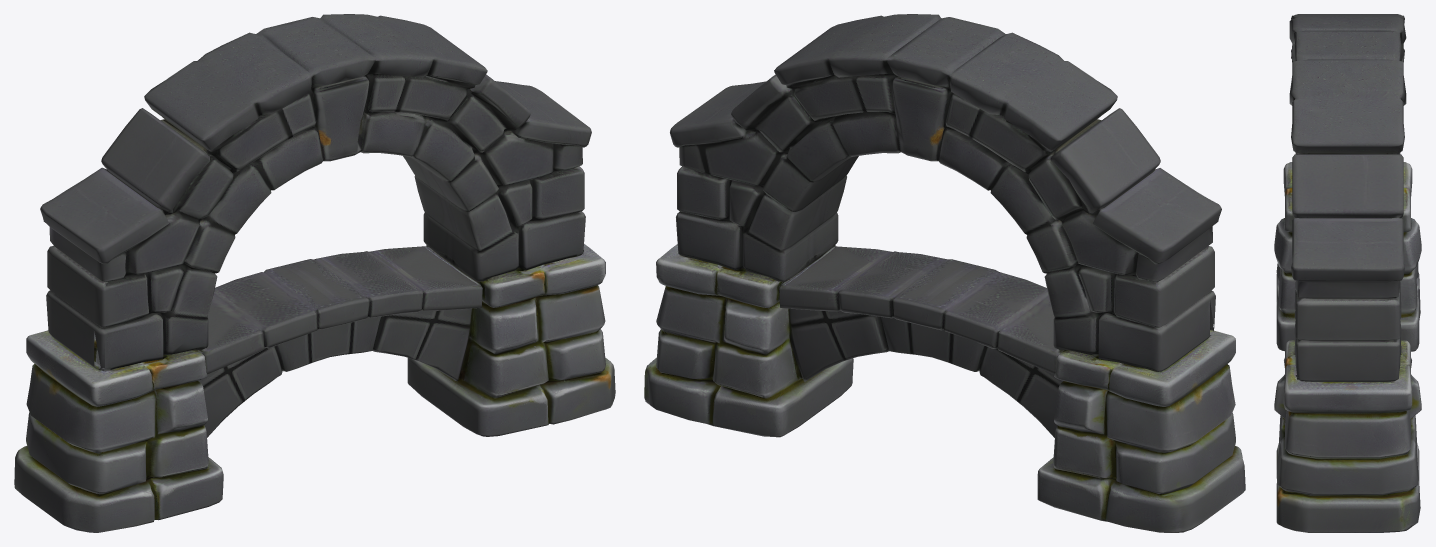
File: garden_footbridge.glb
The picture shows the model from 3 angles, left to right: view 1: azimuth 30°, elevation 25°; view 2: azimuth 150°, elevation 25°; view 3: azimuth 270°, elevation 25°; orthographic projection. The views are drawn at different scales.
Size of the model in its own units: 1.91 by 1.33 by 0.4814.
Materials: 1 (1 with a texture image).
